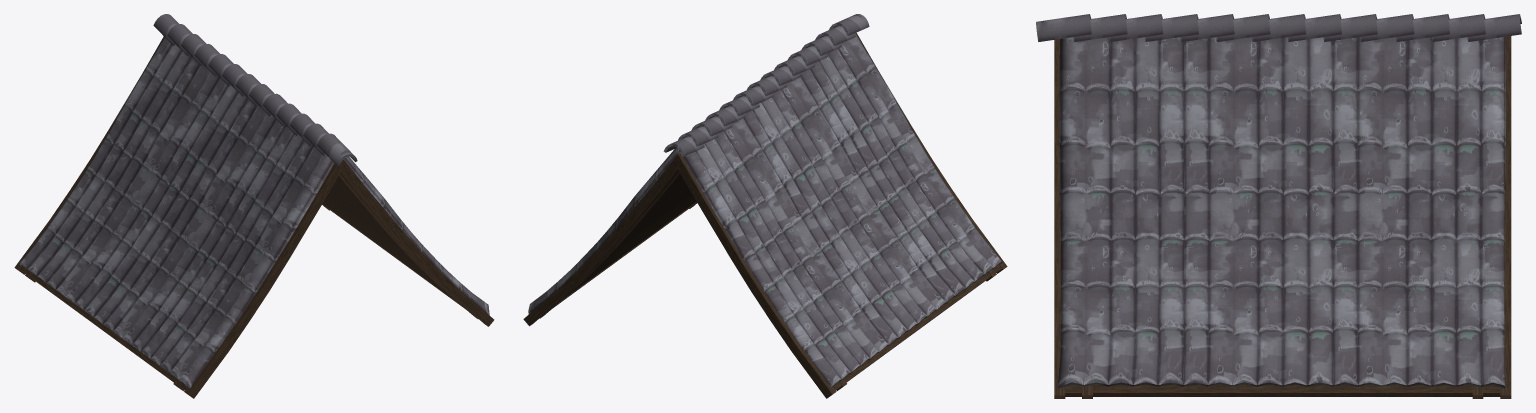
Rendered from Roof_RoundTiles_8x8.gltf.
3 views of the same model, side by side, from view 1: azimuth 30°, elevation 25°; view 2: azimuth 150°, elevation 25°; view 3: azimuth 270°, elevation 25° (orthographic). The views are drawn at different scales.
Visible parts, largest first — view 1: Roof_RoundTiles_8x8; view 2: Roof_RoundTiles_8x8; view 3: Roof_RoundTiles_8x8.
Boxes of the visible parts, x1,y1,x2,y2 form: Roof_RoundTiles_8x8: (14,14,494,398); Roof_RoundTiles_8x8: (523,14,1007,398); Roof_RoundTiles_8x8: (1036,14,1521,398).
Size of the model in its own units: 9.95 by 6.78 by 10.33.
2 materials, 2 textured.
